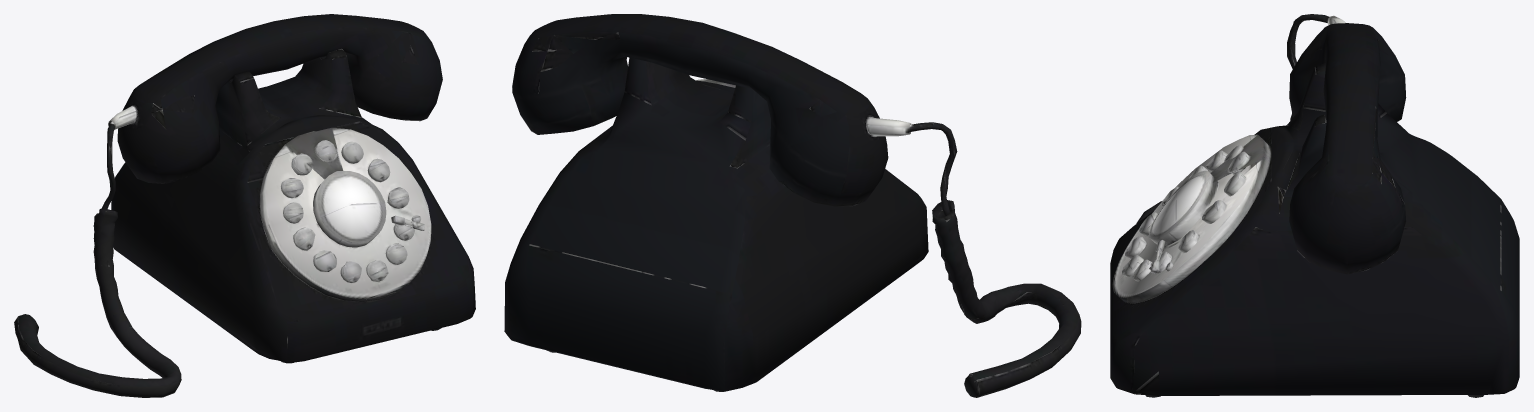
The model's file is phone_table.glb.
The picture shows the model from 3 angles, left to right: view 1: azimuth 30°, elevation 25°; view 2: azimuth 150°, elevation 25°; view 3: azimuth 270°, elevation 25°; orthographic projection. The views are drawn at different scales.
Bounding box in the file's own units: 0.9541 × 0.5386 × 0.6748.
1 material, 1 textured.
